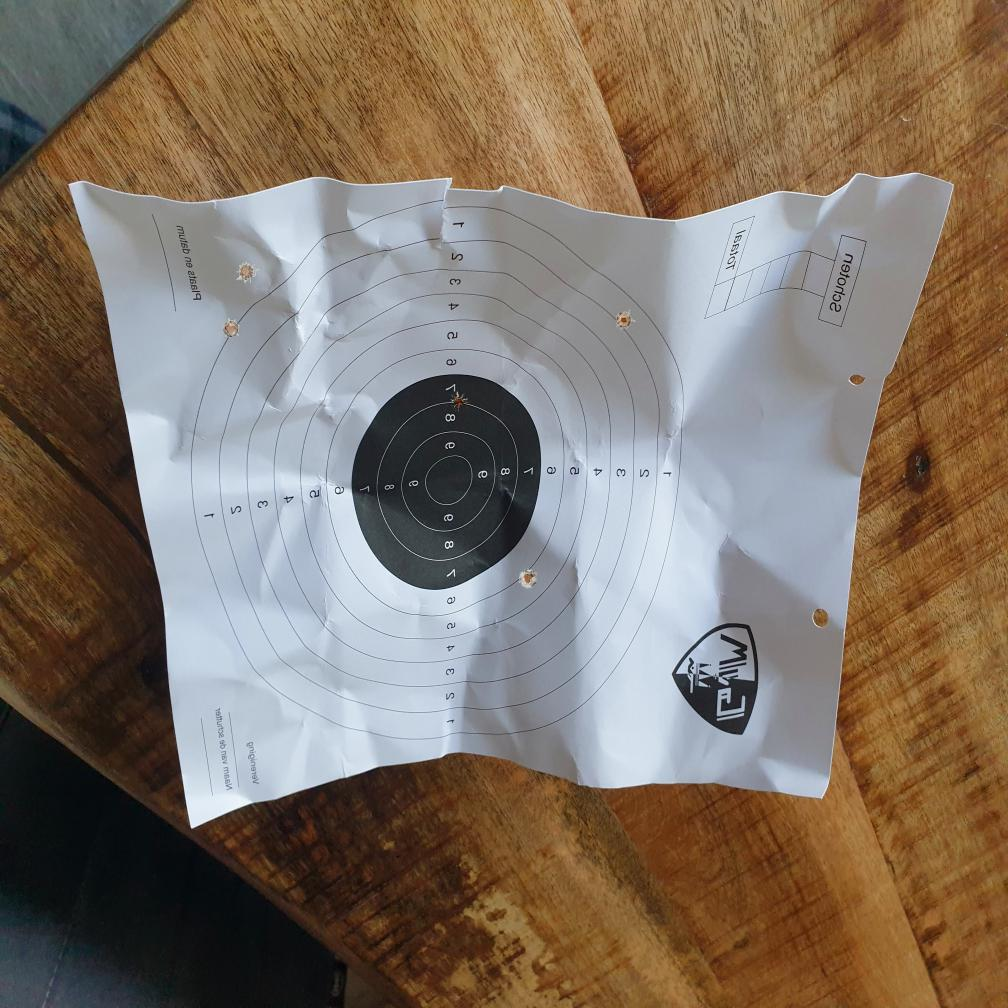0: (237, 262, 258, 283)
1: (224, 318, 240, 338)
2: (616, 310, 636, 331)
6: (520, 568, 538, 588)
8: (450, 390, 469, 413)
Target: (188, 199, 684, 740)
black_contour: (351, 373, 541, 588)
